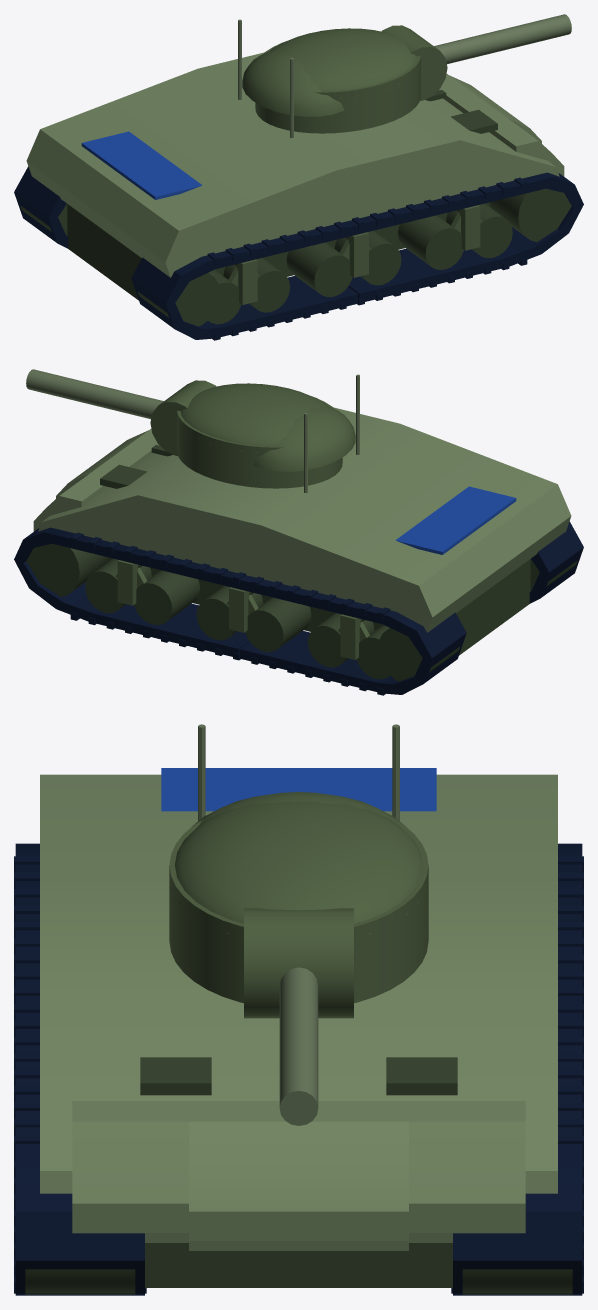
File: tank.glb
3 renders of one model, top to bottom at view 1: azimuth 30°, elevation 25°; view 2: azimuth 150°, elevation 25°; view 3: azimuth 270°, elevation 25°, orthographic. The views are drawn at different scales.
Visible parts, largest first — view 1: tank, torreta; view 2: tank, torreta; view 3: tank, torreta.
Boxes of the visible parts, x1=… form: tank: x1=14, y1=52, x2=583, y2=340; torreta: x1=238, y1=14, x2=571, y2=138; tank: x1=14, y1=407, x2=583, y2=695; torreta: x1=26, y1=369, x2=359, y2=493; tank: x1=14, y1=768, x2=583, y2=1295; torreta: x1=169, y1=724, x2=428, y2=1125.
Size of the model in its own units: 3.17 by 1.36 by 1.76.
